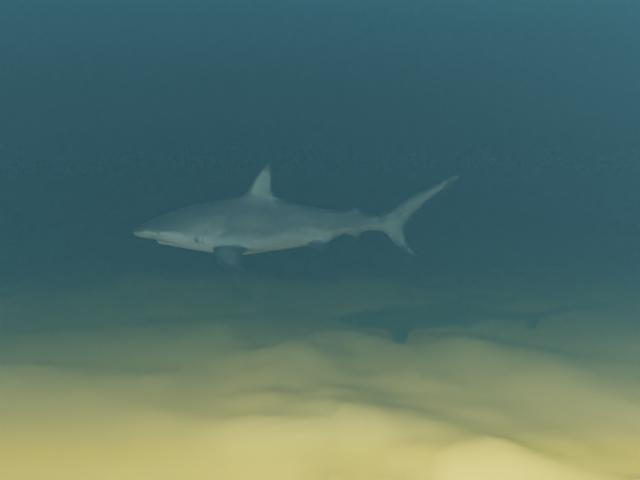Carribean Shark.001: (132, 163, 460, 274)
